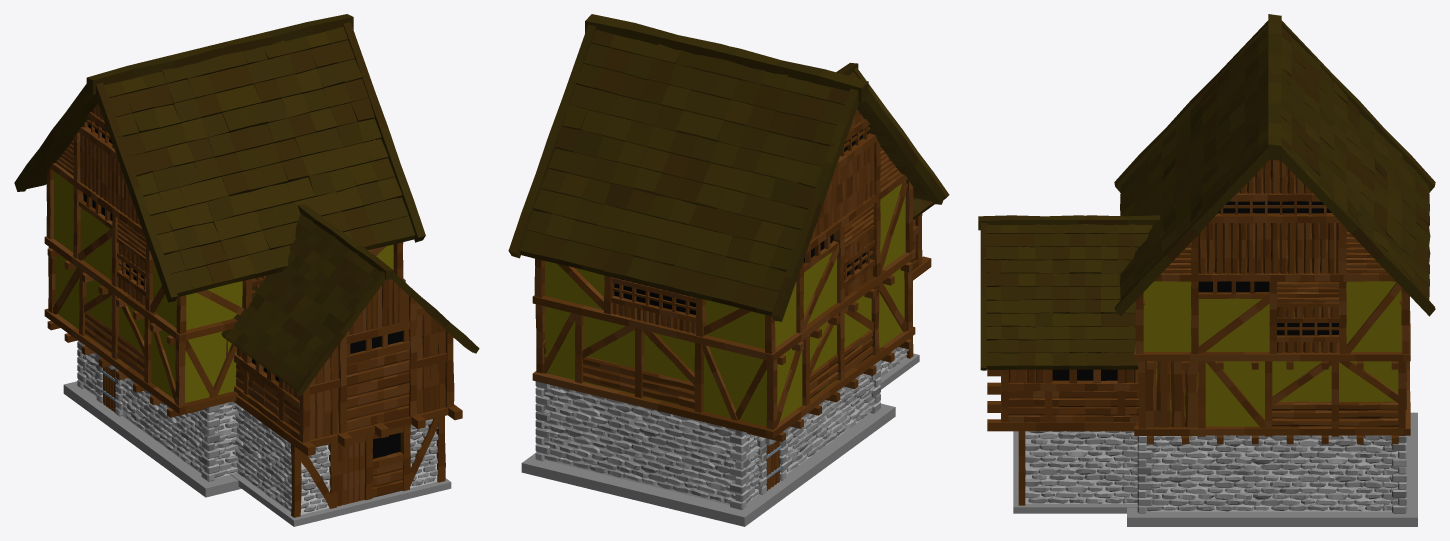
The model's file is castle_town_house_5.fbx.
The picture shows the model from 3 angles, left to right: view 1: azimuth 30°, elevation 25°; view 2: azimuth 150°, elevation 25°; view 3: azimuth 270°, elevation 25°; orthographic projection. The views are drawn at different scales.
Parts seen in each view (by area): view 1: house stone.001; view 2: house stone.001; view 3: house stone.001.
Boxes of the visible parts, left/top/right/bottom form: house stone.001: left=14, top=14, right=479, bottom=526; house stone.001: left=508, top=14, right=949, bottom=526; house stone.001: left=978, top=14, right=1435, bottom=526.
Size of the model in its own units: 10267 by 9603 by 6920.
